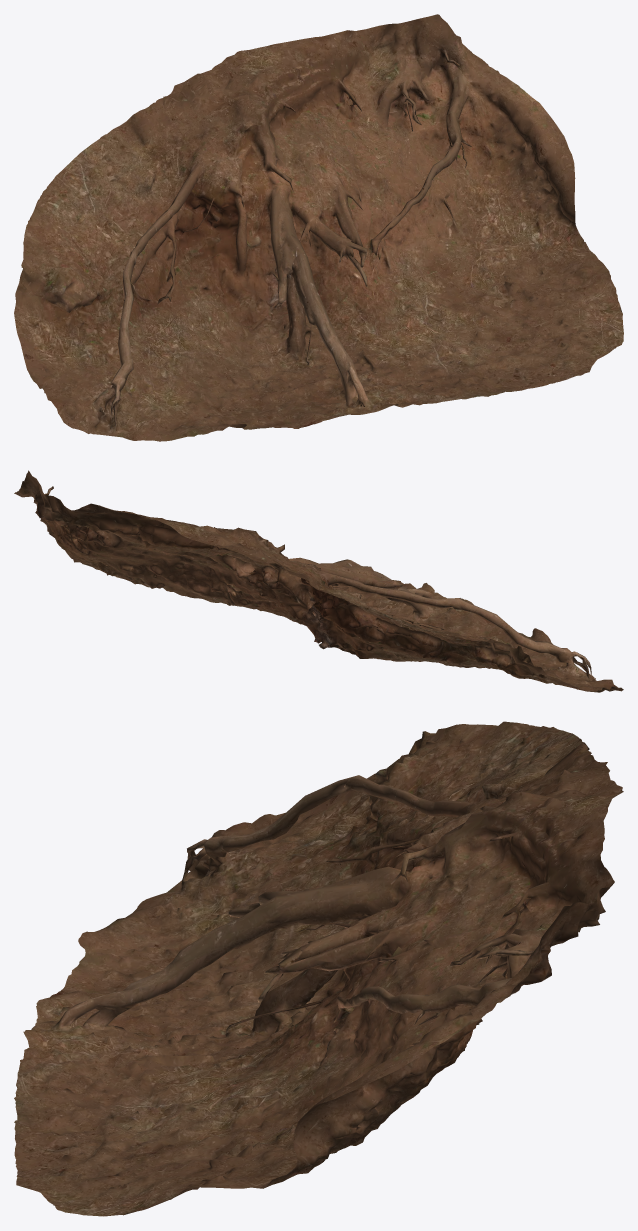
The model's file is root_cluster_01.glb.
3 views of the same model, one above another, from view 1: azimuth 30°, elevation 25°; view 2: azimuth 150°, elevation 25°; view 3: azimuth 270°, elevation 25° (orthographic). The views are drawn at different scales.
Parts seen in each view (by area): view 1: root_cluster_01; view 2: root_cluster_01; view 3: root_cluster_01.
Boxes of the visible parts, x1,y1,x2,y2 form: root_cluster_01: (14, 14, 623, 441); root_cluster_01: (14, 470, 623, 692); root_cluster_01: (14, 721, 623, 1216).
Size of the model in its own units: 4.12 by 1.51 by 2.68.
1 material, 1 textured.
